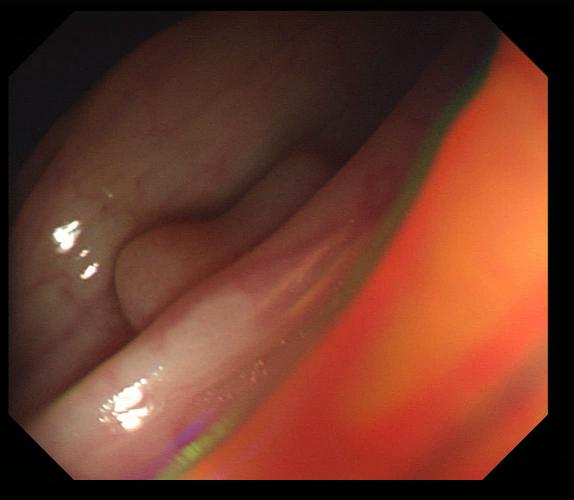polyp: (111, 156, 334, 335)
